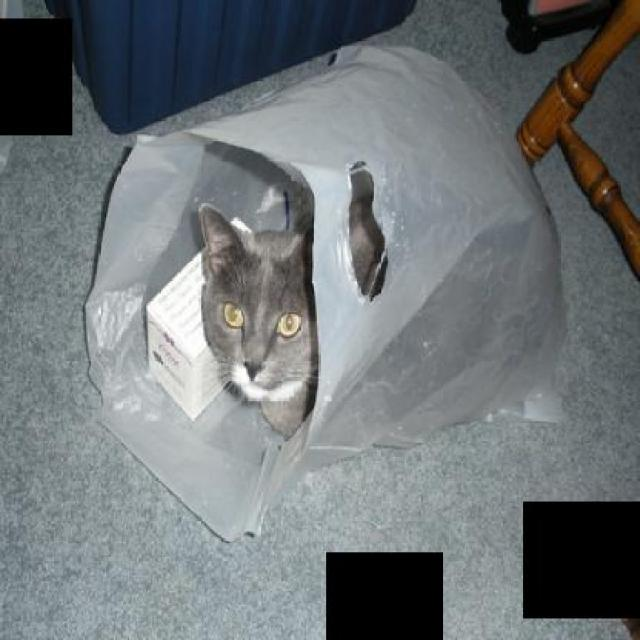plastic bag: (82, 43, 566, 539)
